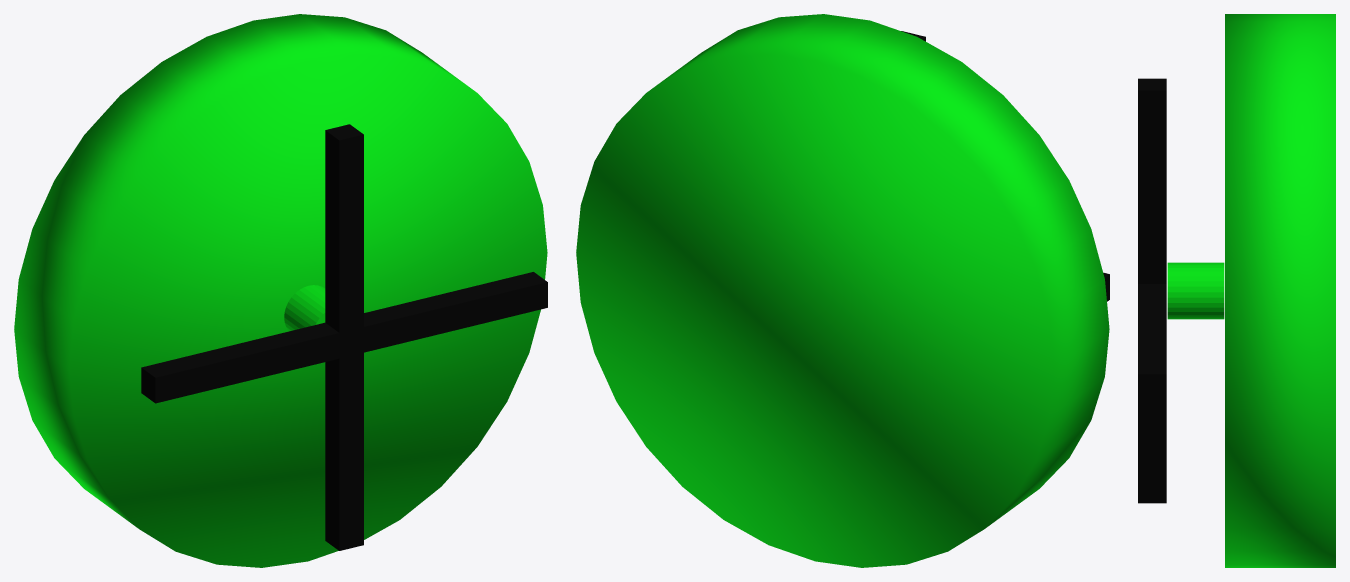
File: enemy-jet.gltf
3 views of the same model, side by side, from view 1: azimuth 30°, elevation 25°; view 2: azimuth 150°, elevation 25°; view 3: azimuth 270°, elevation 25° (orthographic).
Visible parts, largest first — view 1: Cylinder, Cube.001; view 2: Cylinder; view 3: Cylinder, Cube.001.
Part boxes in pixels (x1=…): Cylinder: x1=14, y1=14, x2=547, y2=567; Cube.001: x1=141, y1=124, x2=547, y2=550; Cylinder: x1=576, y1=14, x2=1109, y2=567; Cylinder: x1=1167, y1=14, x2=1335, y2=567; Cube.001: x1=1138, y1=78, x2=1166, y2=503.
Bounding box in the file's own units: 19.5 × 19.5 × 6.95.
